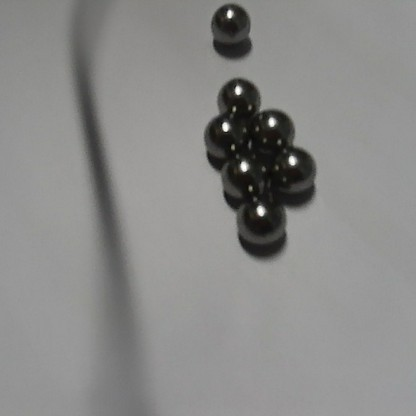ironball: (234, 194, 290, 248), (262, 144, 318, 197), (210, 75, 265, 121), (204, 0, 256, 47), (200, 112, 249, 159), (220, 154, 265, 199), (249, 107, 295, 148)
